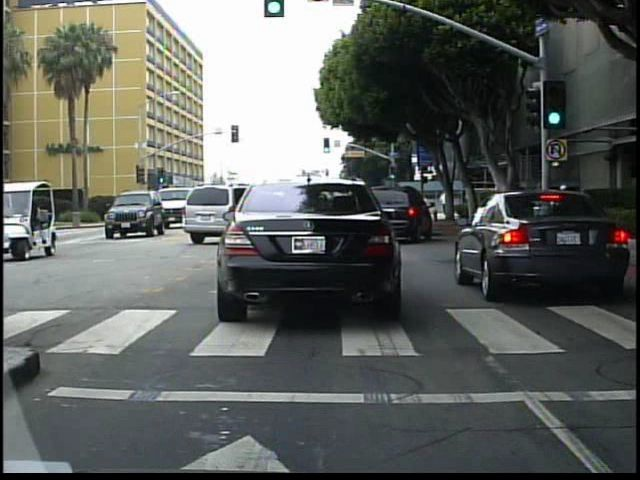person: (537, 174, 557, 232), (436, 186, 450, 219)
